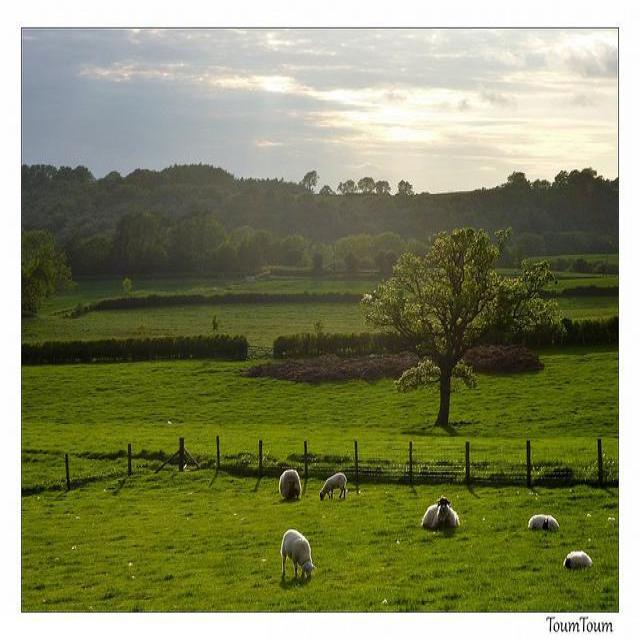Sheep: (280, 529, 318, 579)
